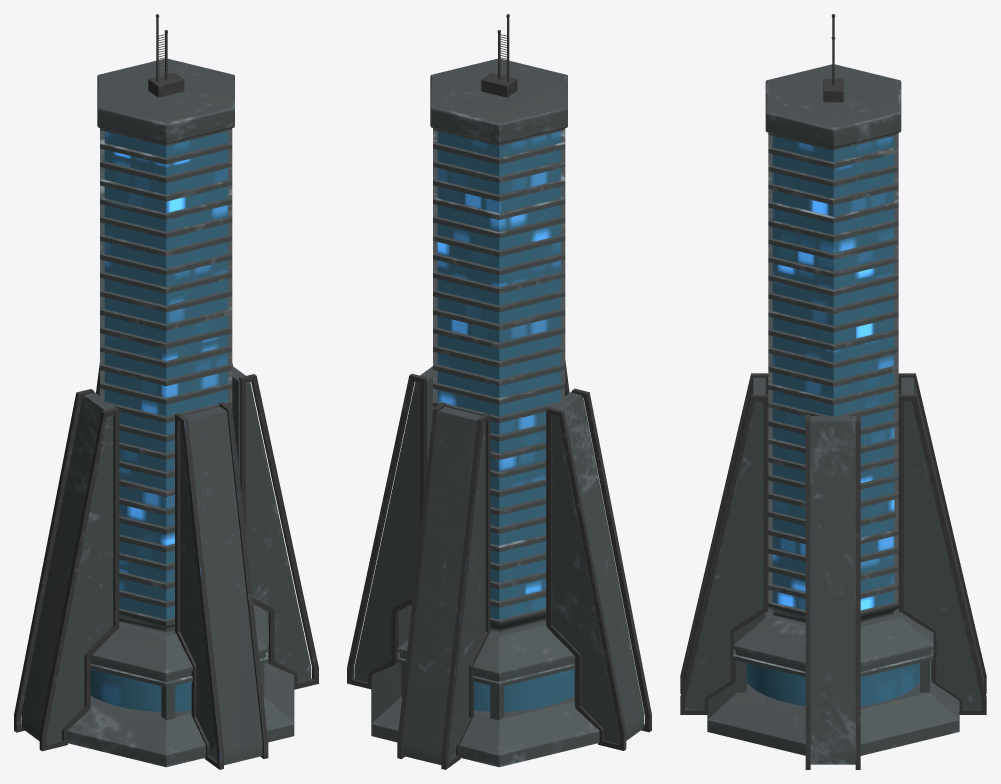
The picture shows the model from 3 angles, left to right: view 1: azimuth 30°, elevation 25°; view 2: azimuth 150°, elevation 25°; view 3: azimuth 270°, elevation 25°; orthographic projection.
Parts seen in each view (by area): view 1: Sci_fi_building; view 2: Sci_fi_building; view 3: Sci_fi_building.
Boxes of the visible parts, x1,y1,x2,y2 form: Sci_fi_building: (14, 14, 318, 769); Sci_fi_building: (347, 14, 651, 769); Sci_fi_building: (680, 14, 986, 769).
Bounding box in the file's own units: 125 × 301 × 122.
1 material, 1 textured.
